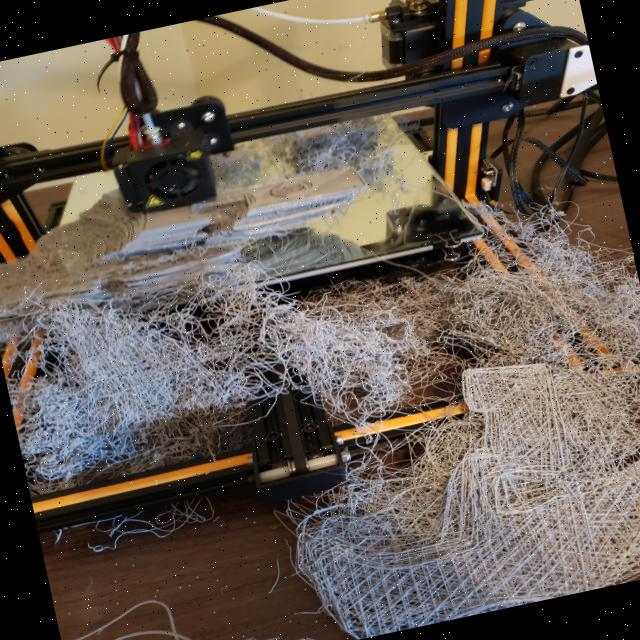spaghetti: (85, 140, 640, 640)
